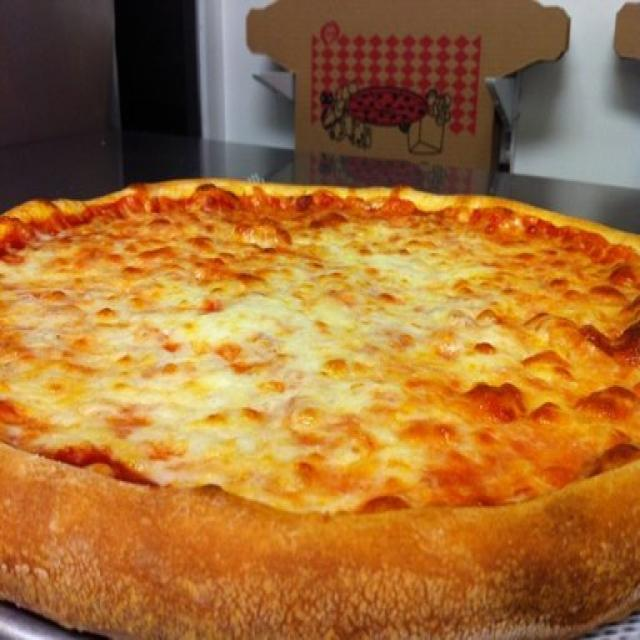Pizza: (0, 179, 640, 636)
